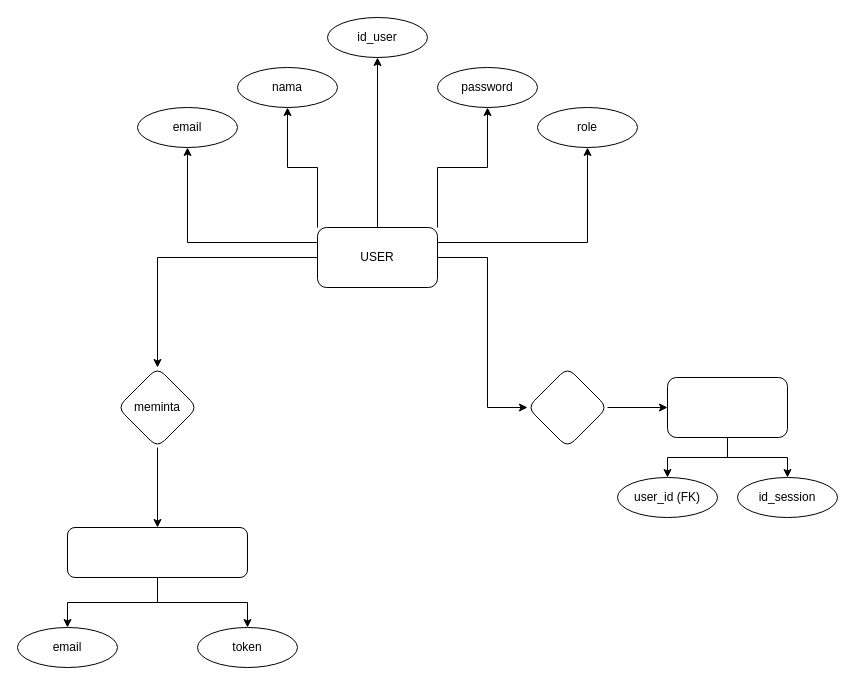
Some shapes in this 855 by 685 pixel diagram are drawn without their labels. The shapes that lost their labels are listed below. From the top down, each one's box as (x1, y1, x2, y2) in pixels, then its label:
(526, 366, 608, 448): memiliki
(666, 376, 788, 438): SESSION
(66, 526, 248, 578): PASSWORD_RESET_TOKEN
